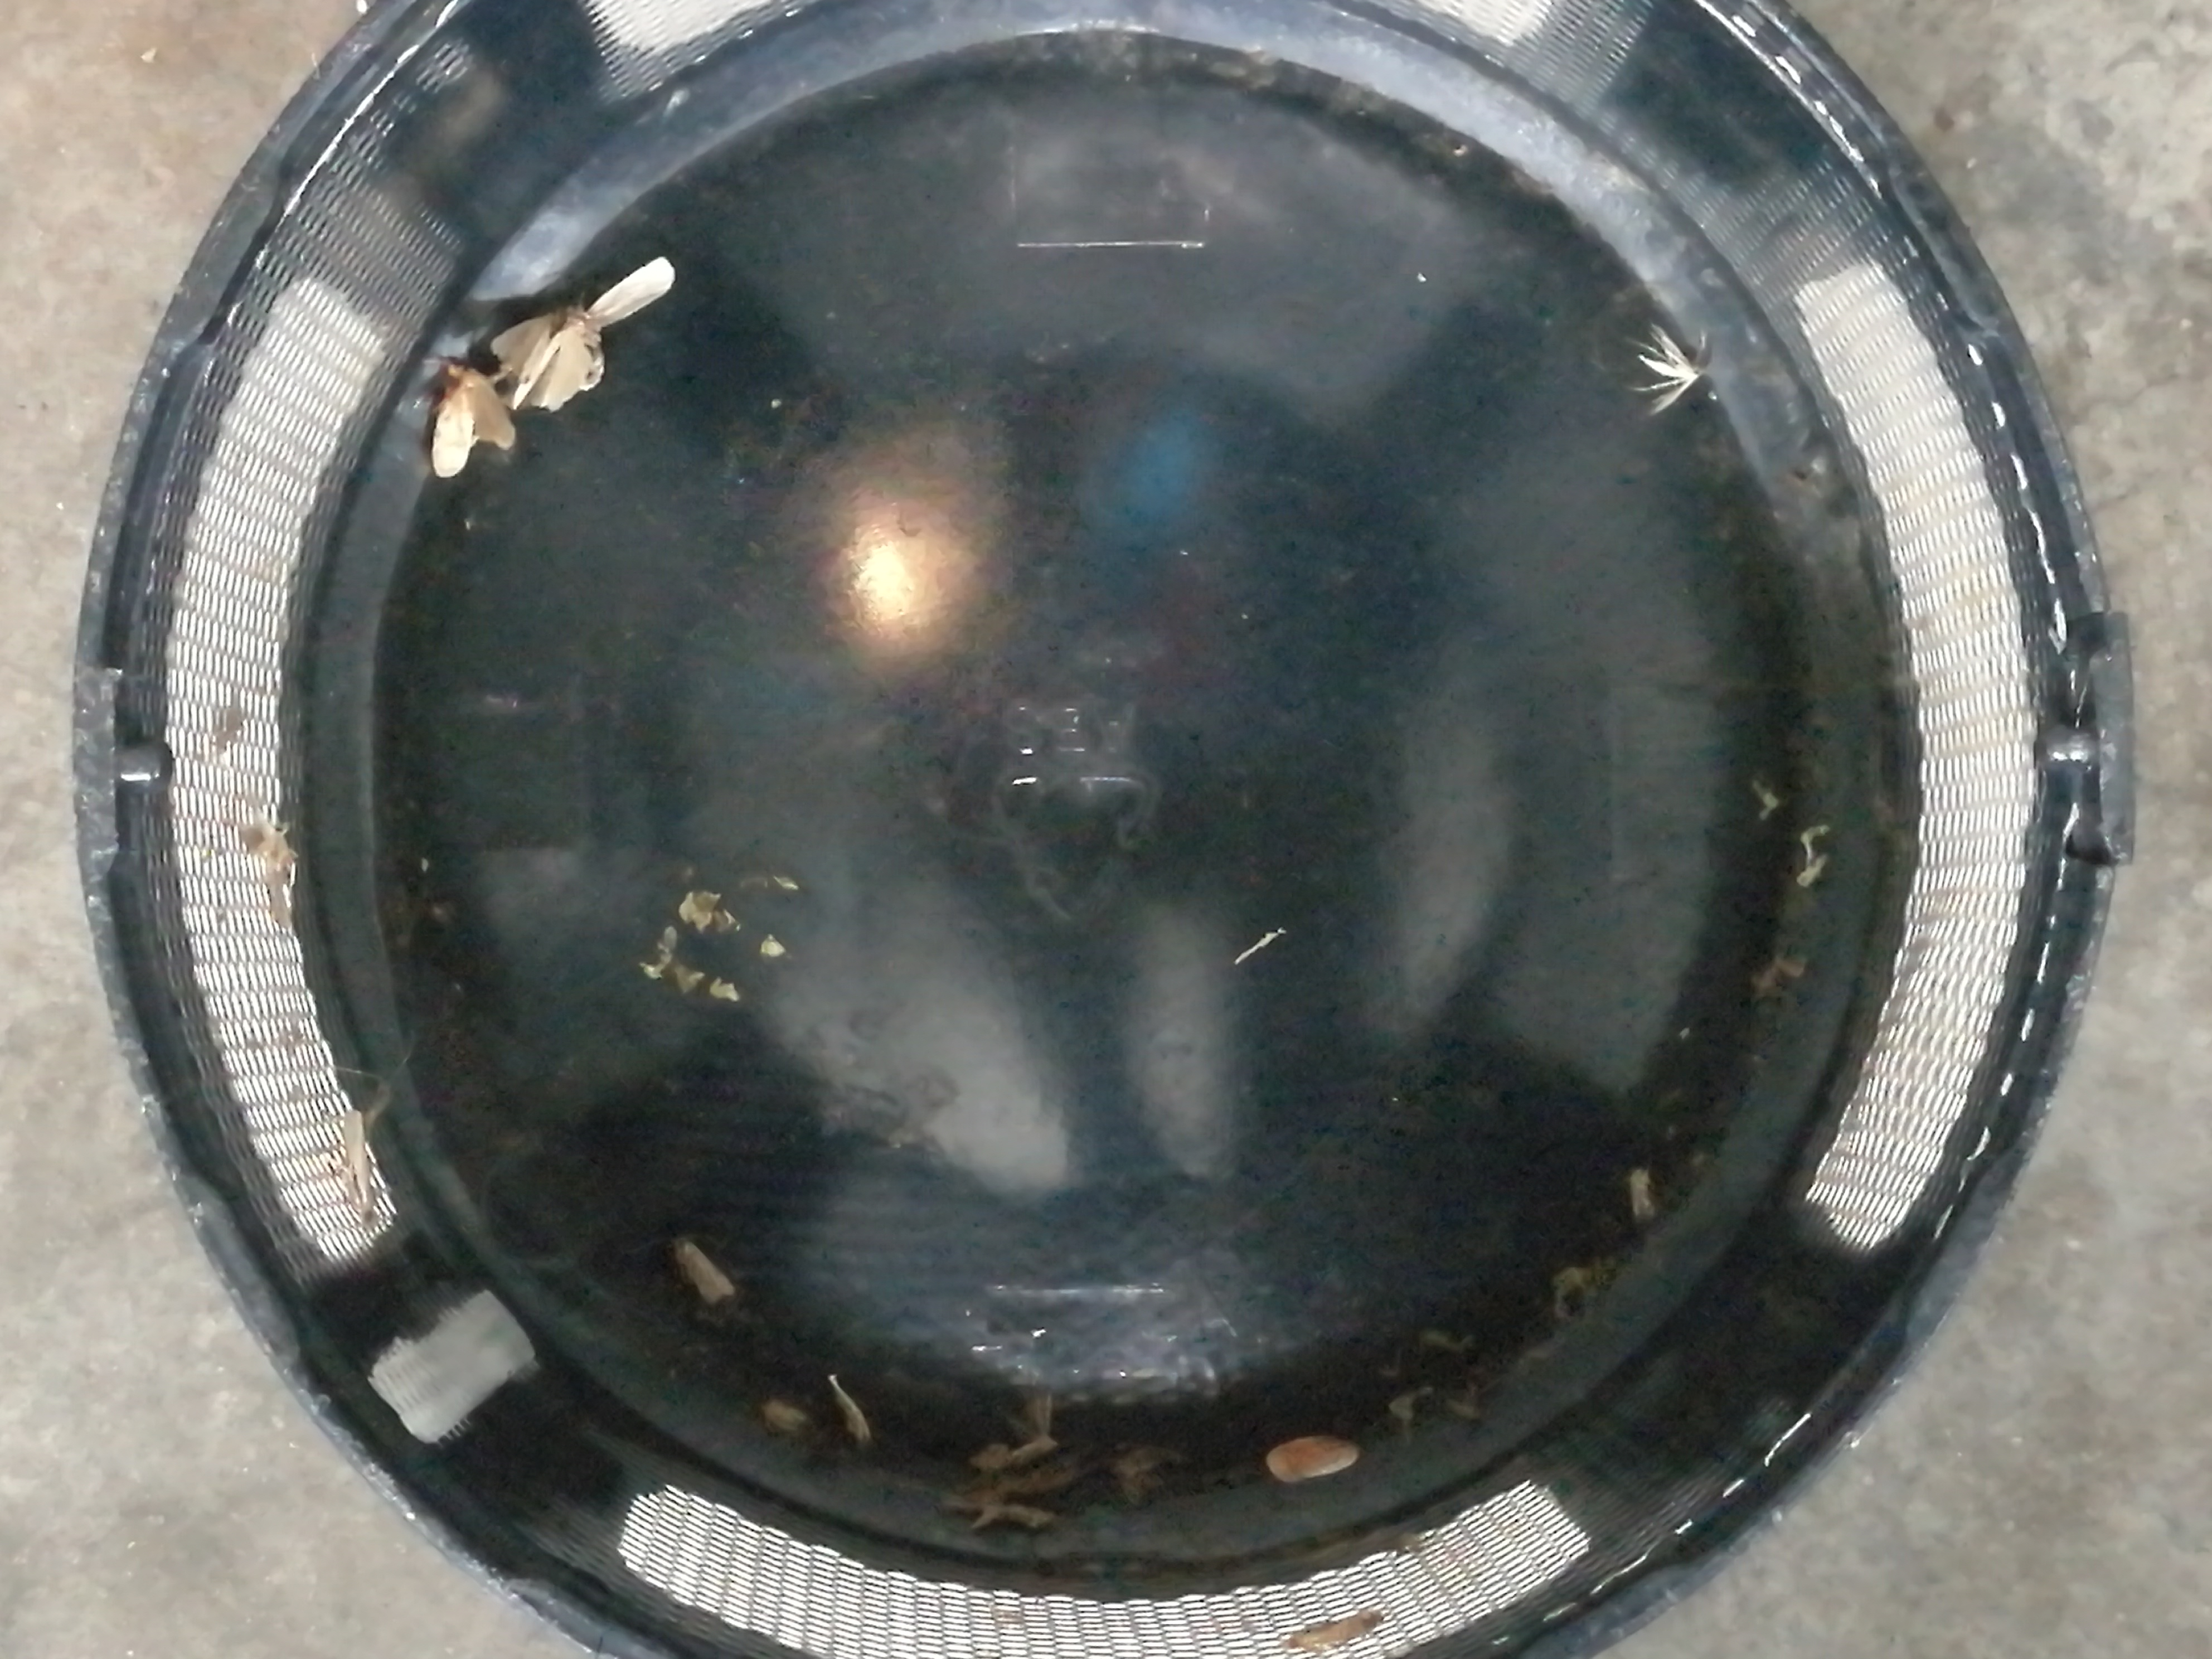mosquito: (676, 1236, 732, 1302), (1291, 1612, 1379, 1647), (263, 824, 289, 929)
moth: (493, 261, 676, 408), (434, 369, 516, 476)
